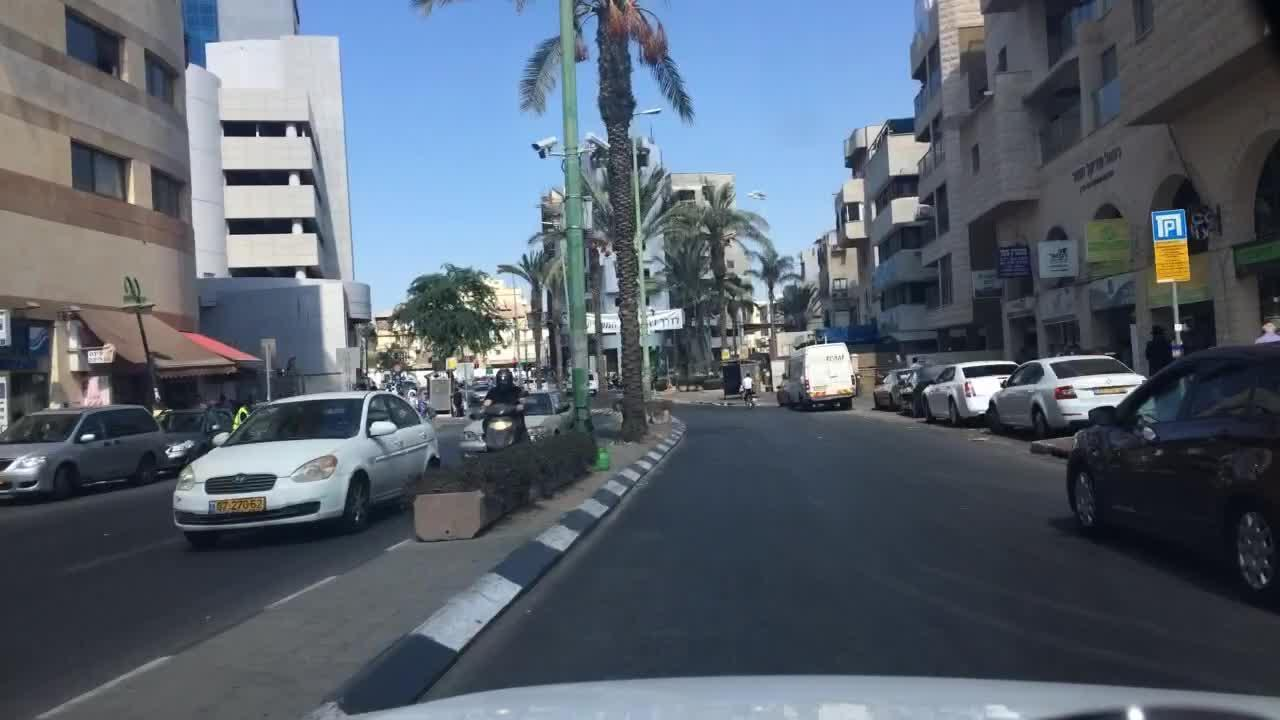Hyundai: (228, 471, 253, 487)
